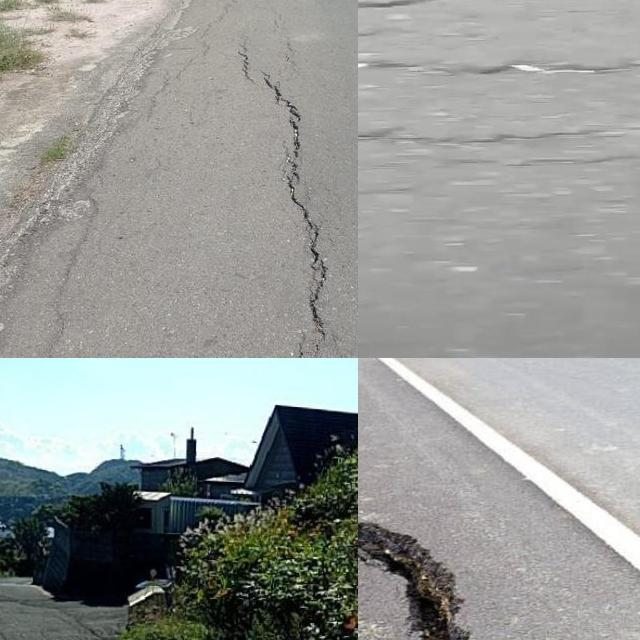Melintang: (358, 45, 640, 88)
Memanjang: (227, 47, 340, 358)
